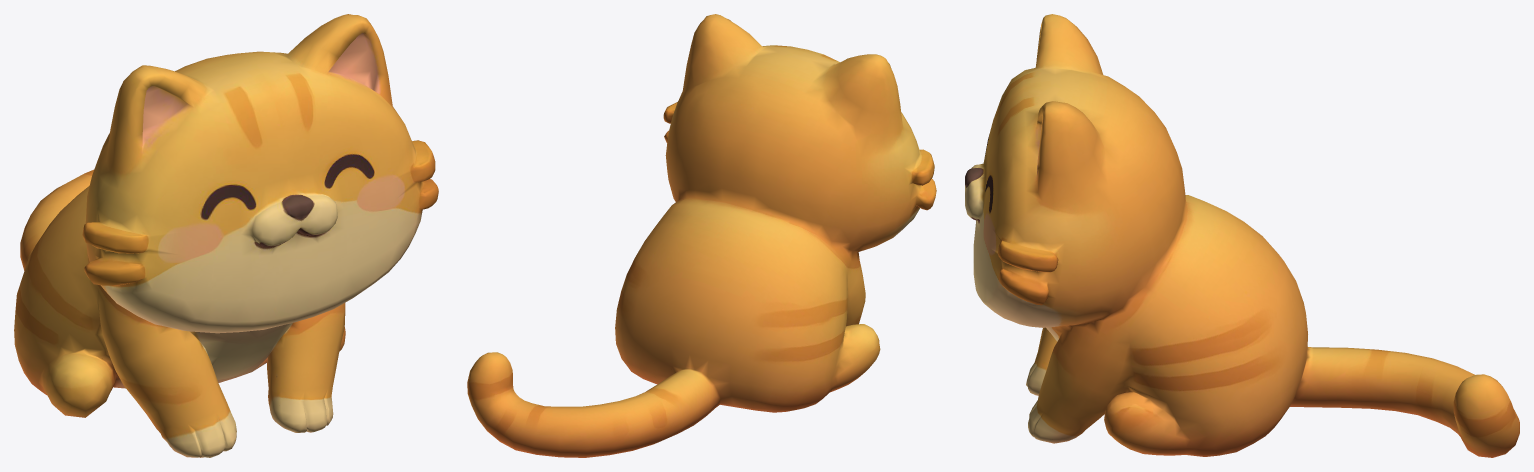
File: Chubby Loaf Cat Toy.glb
3 views of the same model, side by side, from view 1: azimuth 30°, elevation 25°; view 2: azimuth 150°, elevation 25°; view 3: azimuth 270°, elevation 25° (orthographic). The views are drawn at different scales.
Parts seen in each view (by area): view 1: pb_node; view 2: pb_node; view 3: pb_node.
Part boxes in pixels (x1=…): pb_node: x1=14, y1=14, x2=438, y2=457; pb_node: x1=467, y1=14, x2=936, y2=457; pb_node: x1=965, y1=14, x2=1519, y2=457.
Size of the model in its own units: 0.6543 by 0.7012 by 0.998.
Materials: 1 (1 with a texture image).
